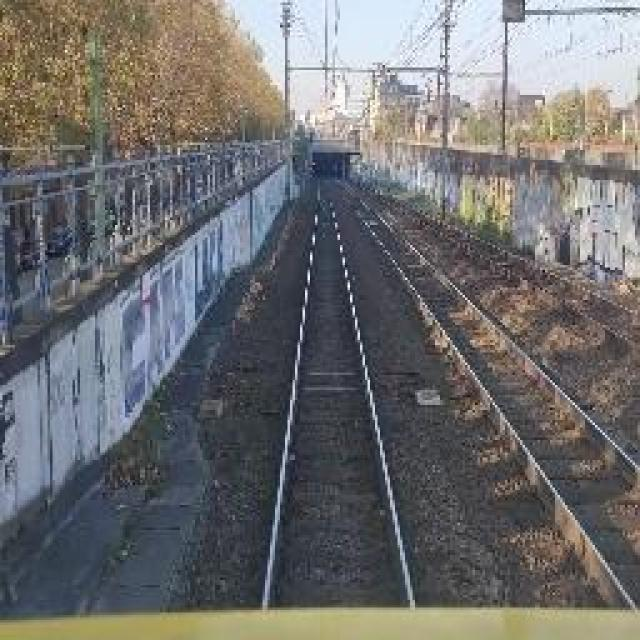rail: (244, 170, 433, 610)
